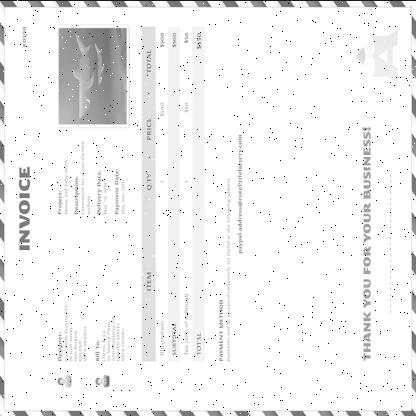Paragraph: (55, 136, 130, 220), (360, 121, 374, 364), (216, 173, 233, 364), (55, 300, 89, 366), (92, 310, 128, 365), (16, 162, 32, 254), (235, 128, 246, 257), (20, 22, 30, 51)
Table: (141, 25, 206, 360)
